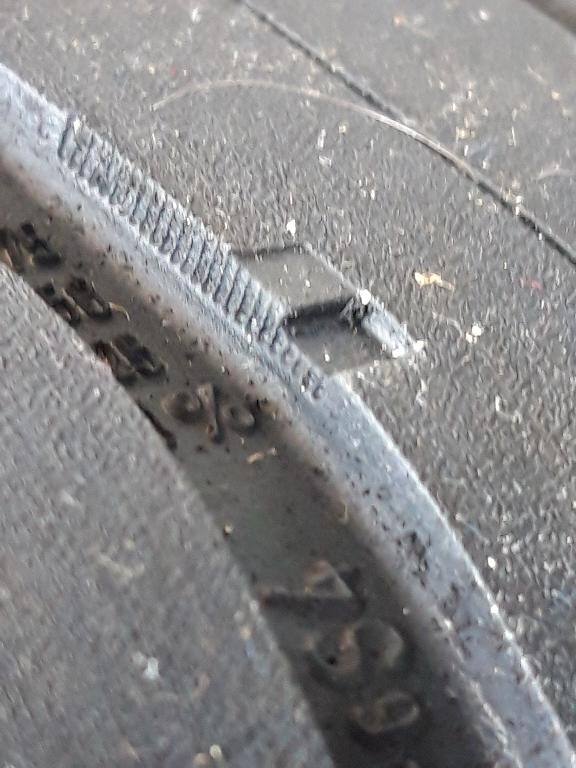temoin:25: (201, 234, 437, 411)
